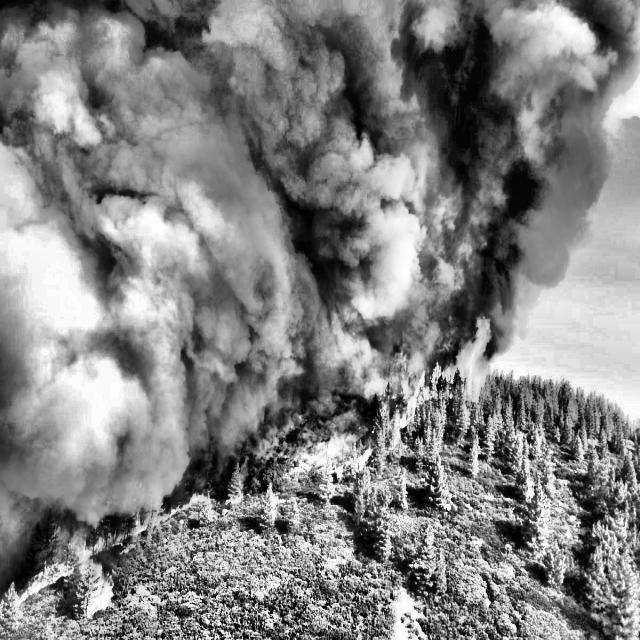fire: (382, 322, 536, 464), (145, 460, 238, 583), (24, 540, 127, 622), (300, 420, 387, 508)
